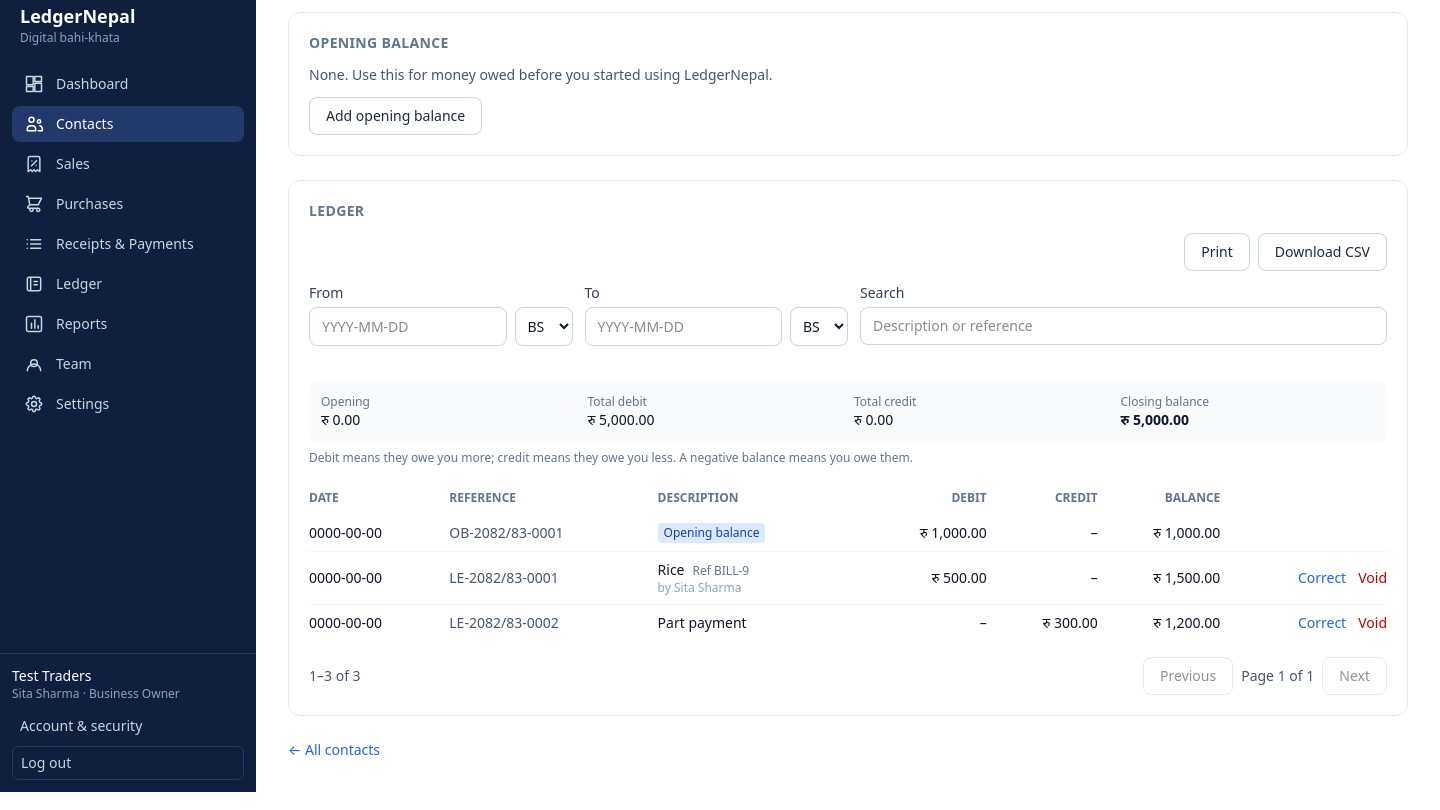
it: the contact ledger › voiding › shows a missing-reason message from the server and stays open
(page scrolled)
Click the button with aria-label "Void LE-2082/83-0001" at (1373, 578), box [1358, 568, 1387, 588]
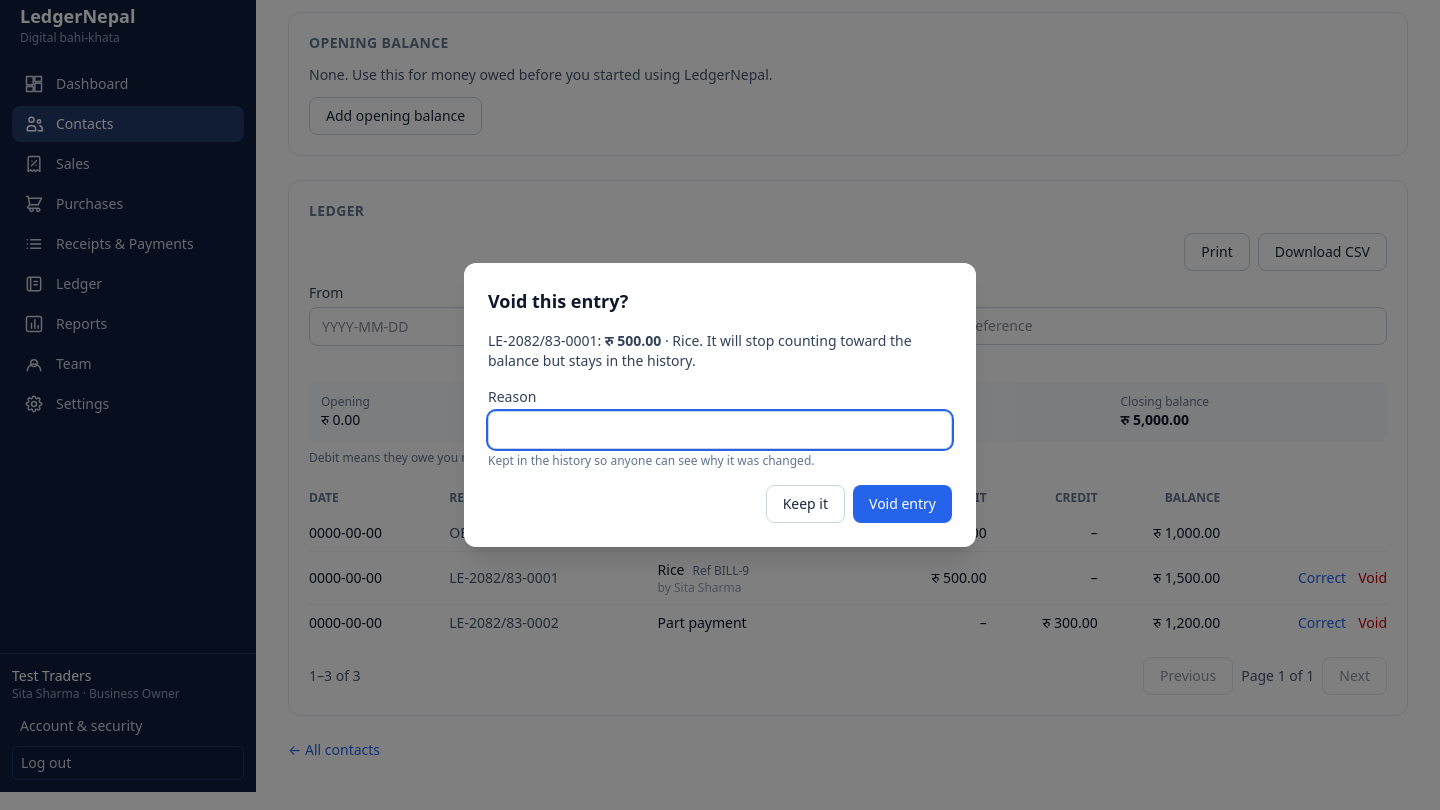
Click the button "Void entry" at (902, 504), box [853, 485, 952, 523]
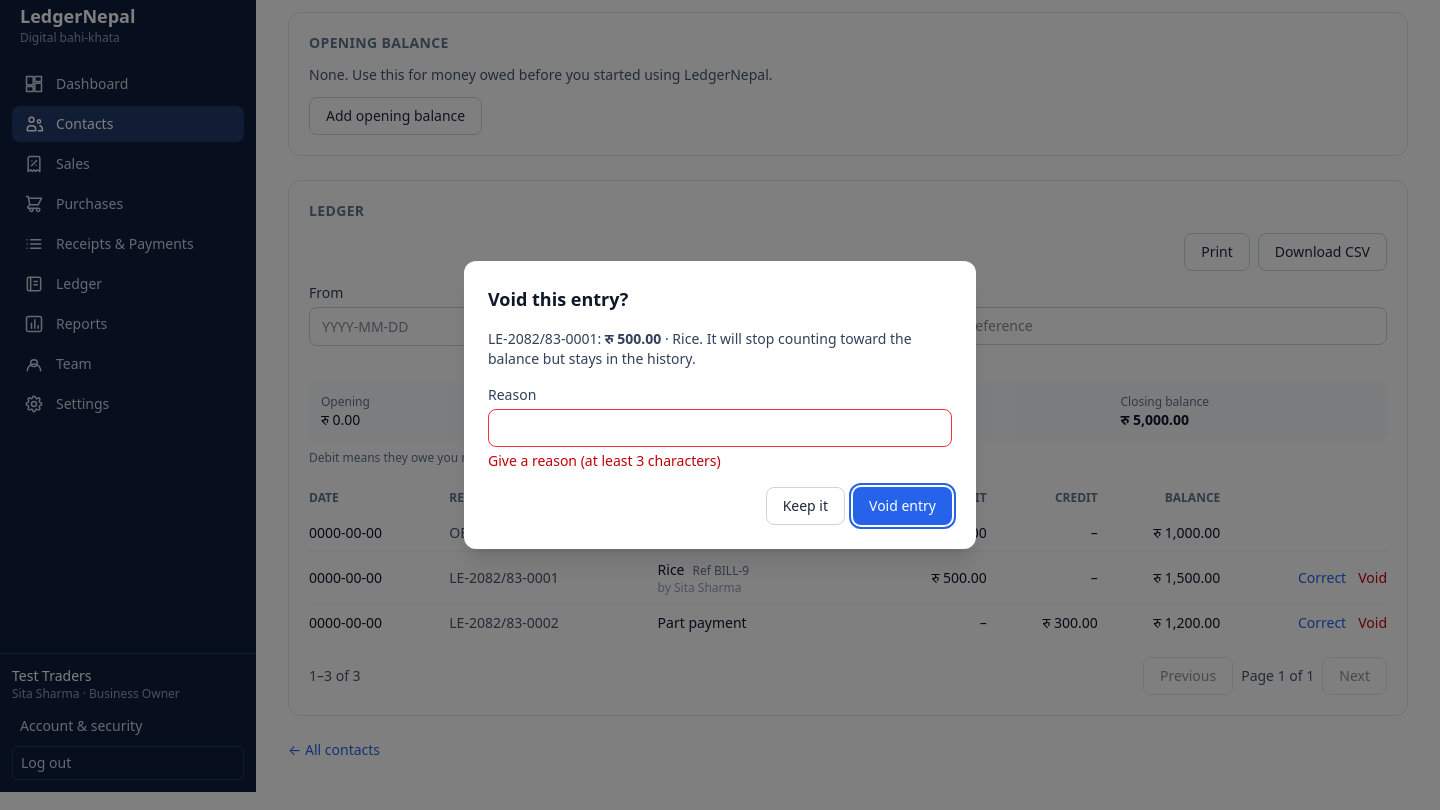
Now the dialog is shown, box [464, 261, 976, 549]
Now the text "Give a reason (at least 3 characters)" is shown, box [488, 451, 721, 470]
